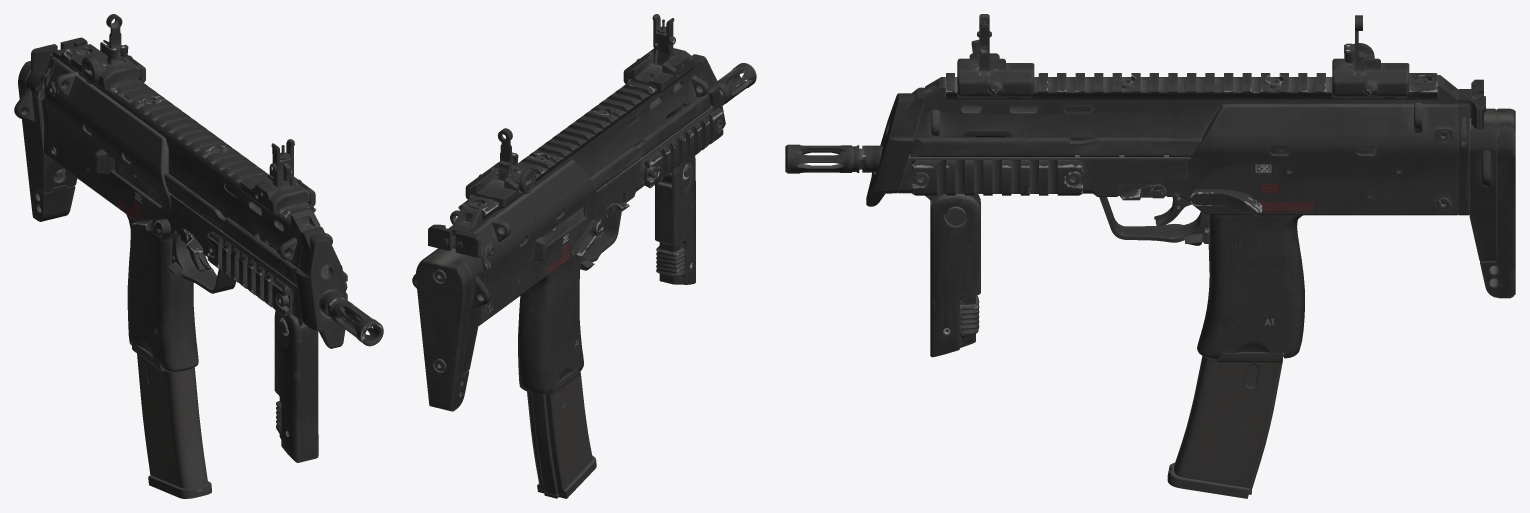
3 views of the same model, side by side, from view 1: azimuth 30°, elevation 25°; view 2: azimuth 150°, elevation 25°; view 3: azimuth 270°, elevation 25° (orthographic). The views are drawn at different scales.
Visible parts, largest first — view 1: MP7_CS2; view 2: MP7_CS2; view 3: MP7_CS2.
Boxes of the visible parts, bbox=[...] form: MP7_CS2: bbox=[14, 14, 383, 498]; MP7_CS2: bbox=[412, 14, 756, 498]; MP7_CS2: bbox=[785, 14, 1515, 498].
Bounding box in the file's own units: 0.0583 × 0.2905 × 0.4046.
1 material, 1 textured.
